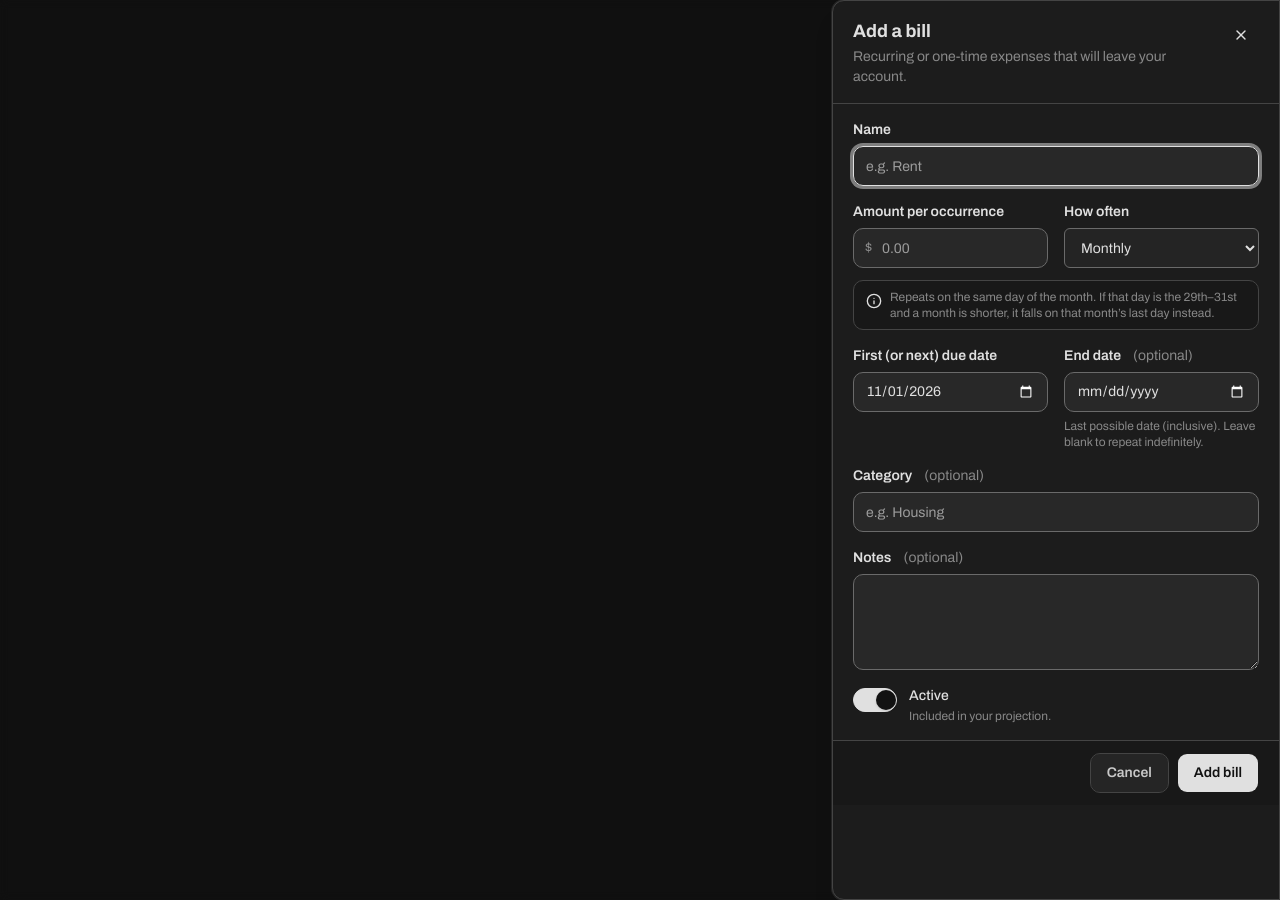
ScheduleFormDialog (bill) › rejects amount 0 client-side
Type "Rent" into the field with test id "bill-name" at point(1056, 166), box x1=853 y1=146 x2=1259 y2=186
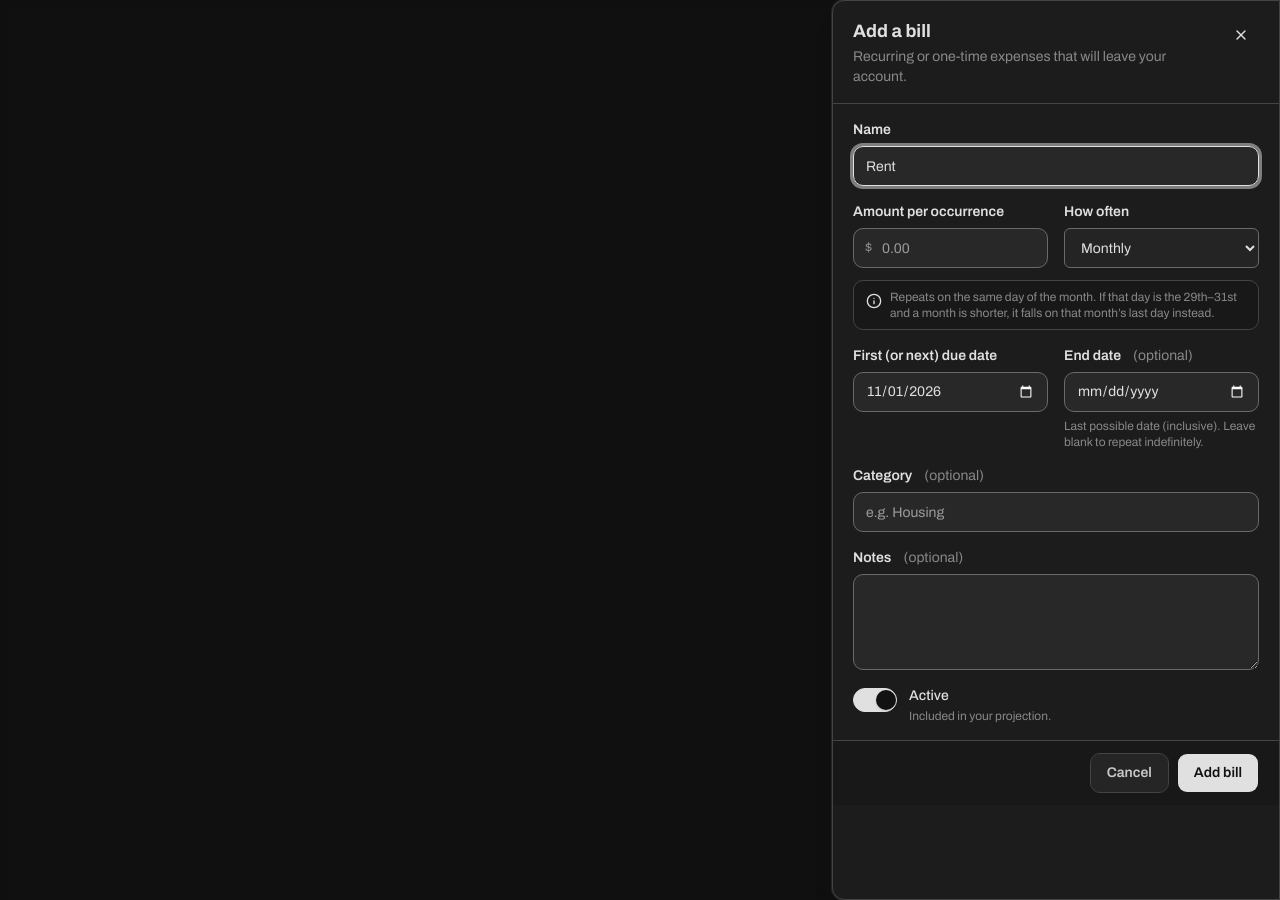
Type "0" into the field with test id "bill-amount" at point(950, 248), box x1=853 y1=228 x2=1048 y2=268
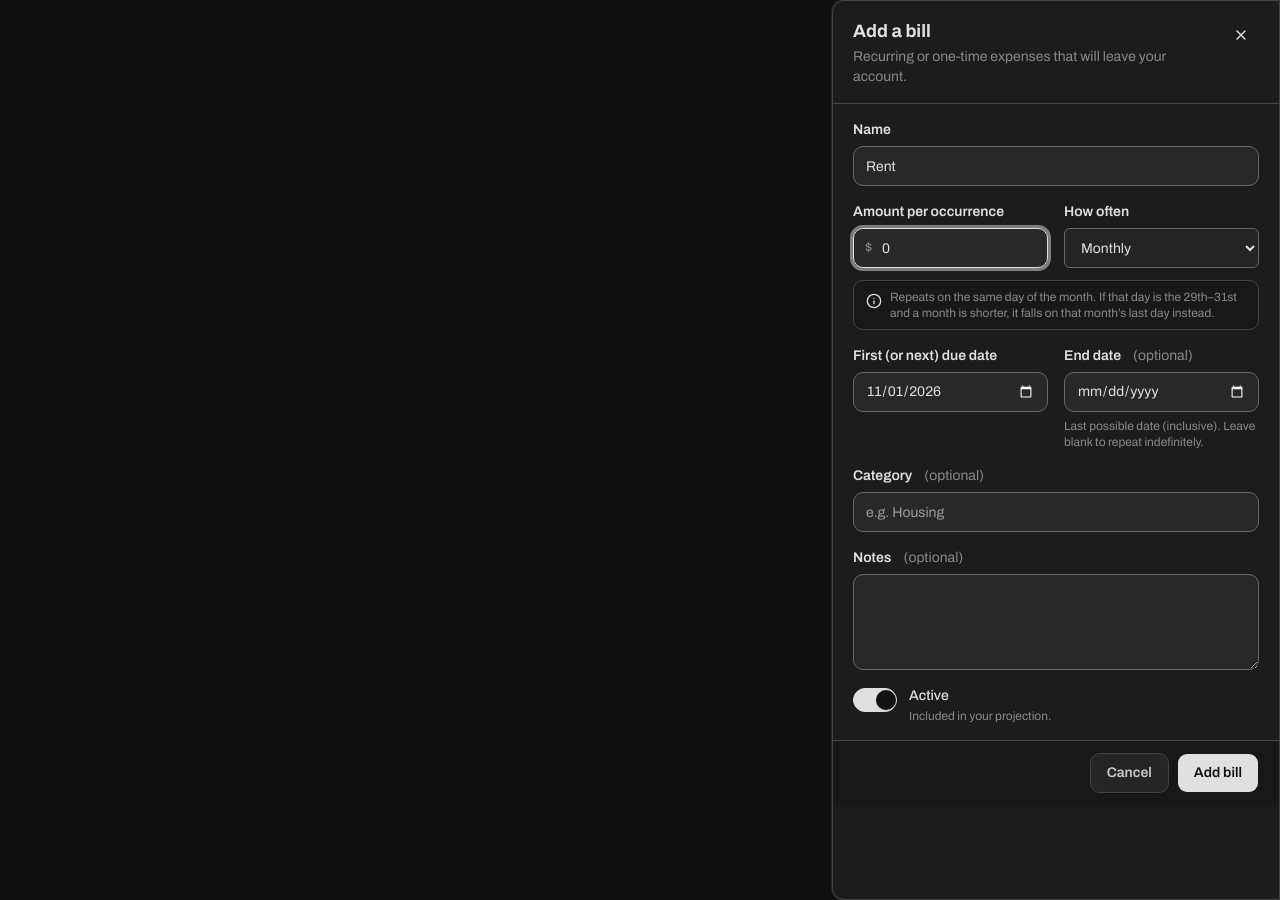
Click the button with test id "bill-form-submit" at point(1218, 773), box x1=1177 y1=753 x2=1259 y2=793
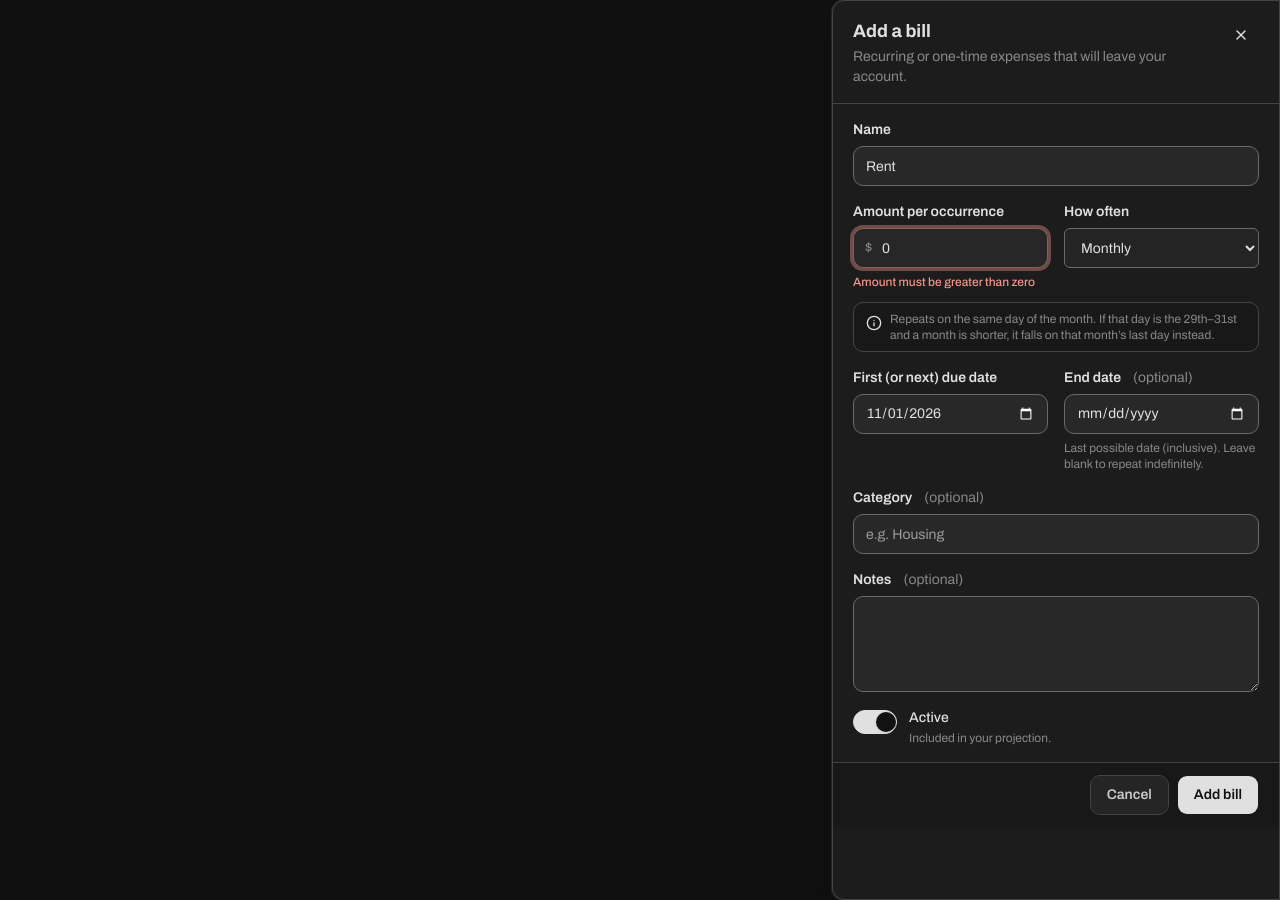
Result: the message "Amount must be greater than zero" is shown at x1=853 y1=274 x2=1048 y2=290
